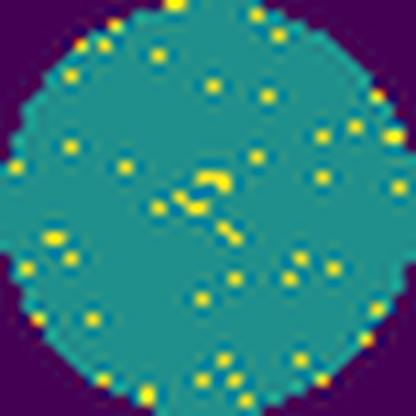Center: (161, 161, 239, 218)
